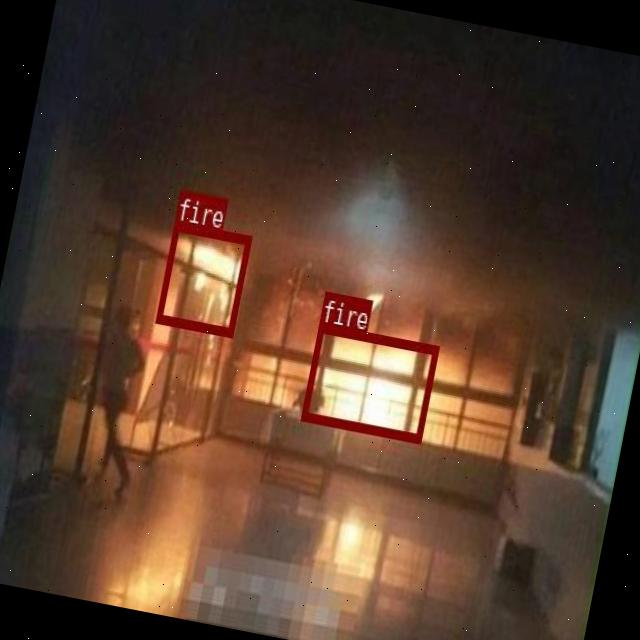fire: (300, 322, 438, 441), (155, 222, 252, 336)
